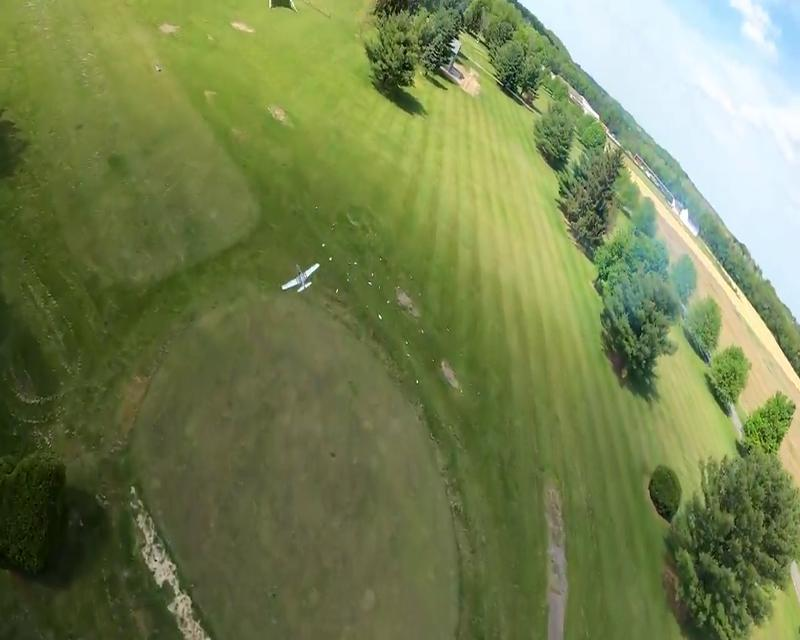UAV: (280, 261, 320, 293)
